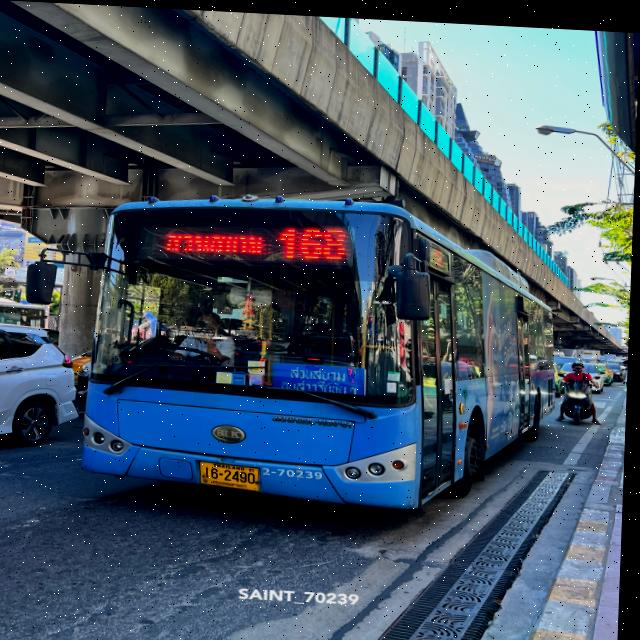BMTA-bus: (81, 187, 560, 513)
Bus-Line-Number: (280, 220, 358, 256)
Destination-Sign-Normal: (274, 358, 369, 392)
